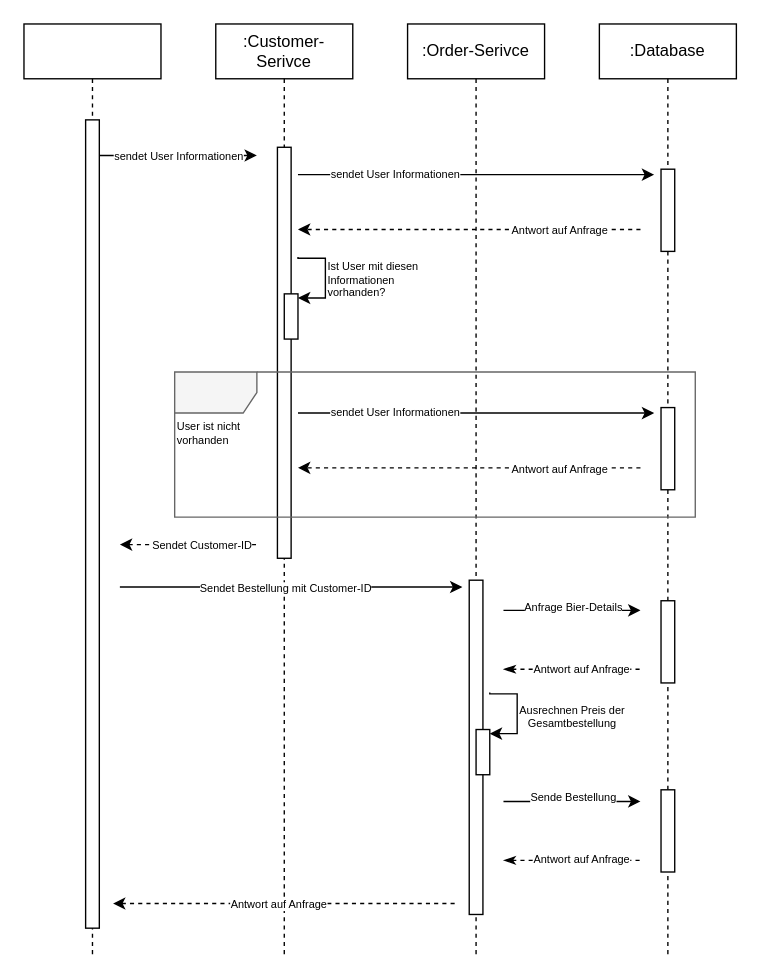
Some shapes in this 760 by 980 pixel diagram are drawn without their labels. Each missing label, with the box of its shape:
:Frontend: (23, 23, 161, 956)
alt: (173, 371, 695, 517)
